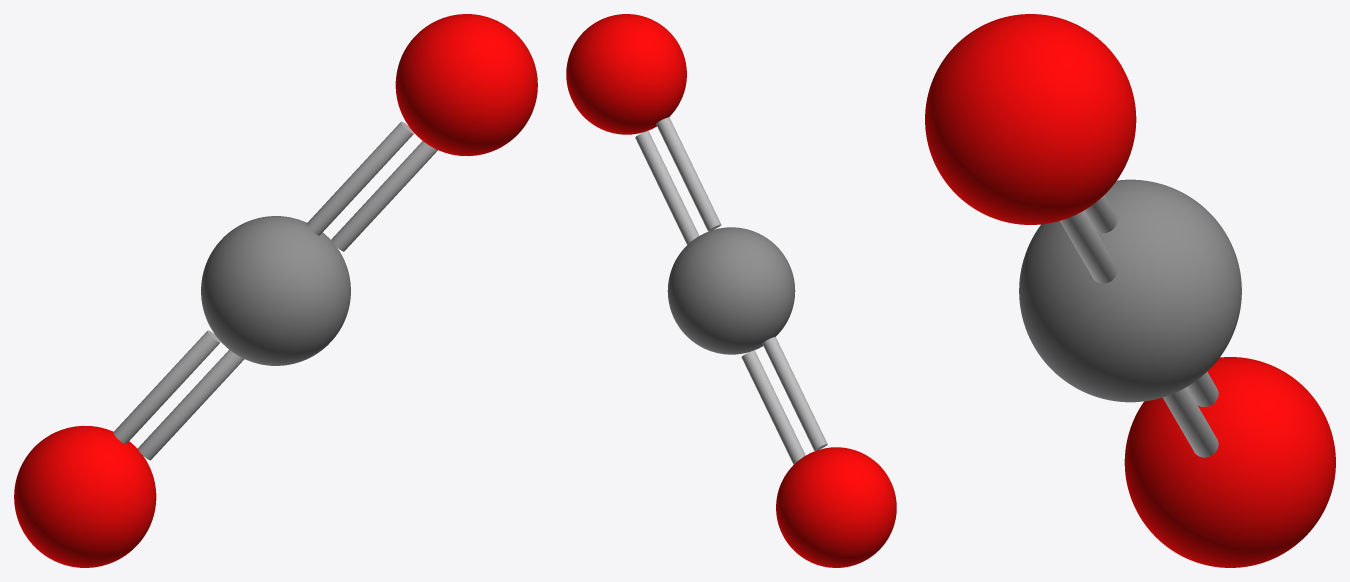
3 renders of one model, left to right at view 1: azimuth 30°, elevation 25°; view 2: azimuth 150°, elevation 25°; view 3: azimuth 270°, elevation 25°, orthographic. The views are drawn at different scales.
Visible parts, largest first — view 1: CMAtom_2, CMAtom_0, CMAtom_1, CMBond_1_Segment_0, CMBond_4_Segment_0, CMBond_2_Segment_0, CMBond_3_Segment_0; view 2: CMAtom_2, CMAtom_1, CMAtom_0, CMBond_1_Segment_0, CMBond_4_Segment_0, CMBond_2_Segment_0, CMBond_3_Segment_0; view 3: CMAtom_2, CMAtom_0, CMAtom_1, CMBond_2_Segment_0, CMBond_3_Segment_0, CMBond_1_Segment_0, CMBond_4_Segment_0.
Part boxes in pixels (x1=…): CMAtom_2: x1=201, y1=216, x2=350, y2=365; CMAtom_0: x1=395, y1=14, x2=537, y2=156; CMAtom_1: x1=14, y1=425, x2=156, y2=567; CMBond_1_Segment_0: x1=306, y1=121, x2=414, y2=235; CMBond_4_Segment_0: x1=113, y1=330, x2=220, y2=444; CMBond_2_Segment_0: x1=331, y1=141, x2=437, y2=251; CMBond_3_Segment_0: x1=137, y1=350, x2=244, y2=460; CMAtom_2: x1=667, y1=227, x2=795, y2=354; CMAtom_1: x1=776, y1=447, x2=896, y2=567; CMAtom_0: x1=566, y1=14, x2=686, y2=134; CMBond_1_Segment_0: x1=656, y1=117, x2=721, y2=231; CMBond_4_Segment_0: x1=762, y1=337, x2=827, y2=450; CMBond_2_Segment_0: x1=635, y1=131, x2=699, y2=244; CMBond_3_Segment_0: x1=741, y1=350, x2=805, y2=464; CMAtom_2: x1=1019, y1=179, x2=1241, y2=402; CMAtom_0: x1=925, y1=14, x2=1136, y2=224; CMAtom_1: x1=1124, y1=357, x2=1335, y2=567; CMBond_2_Segment_0: x1=1060, y1=210, x2=1117, y2=283; CMBond_3_Segment_0: x1=1163, y1=387, x2=1218, y2=457; CMBond_1_Segment_0: x1=1084, y1=195, x2=1117, y2=233; CMBond_4_Segment_0: x1=1187, y1=371, x2=1218, y2=406.
Size of the model in its own units: 2.07 by 2.32 by 1.14.
